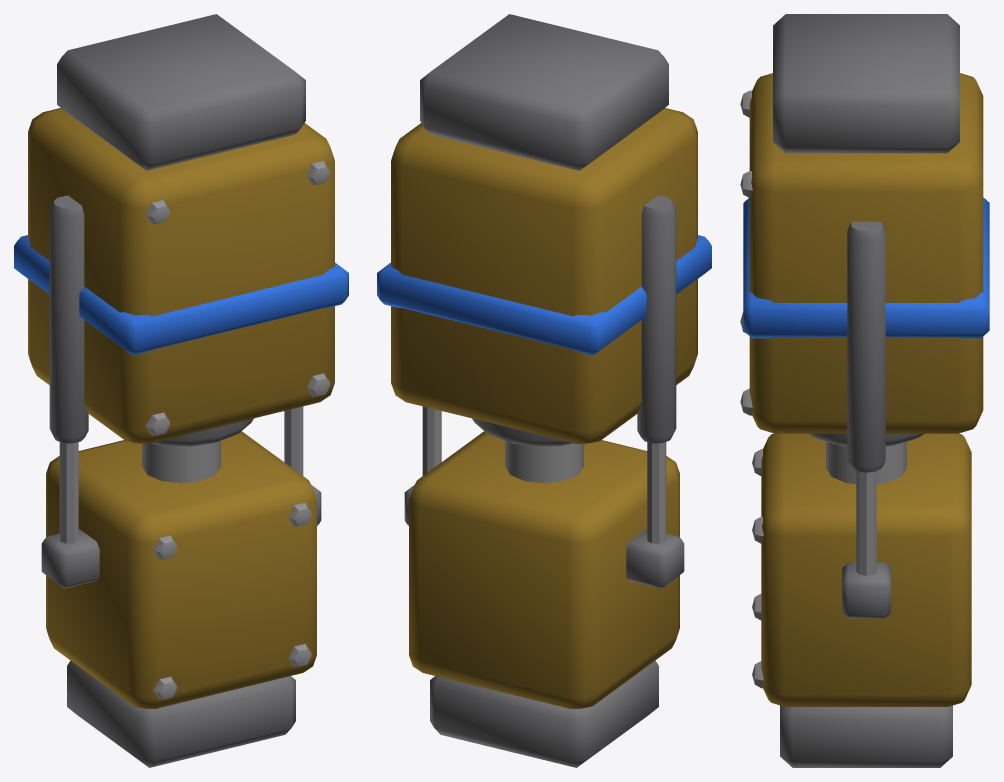
The model's file is Kit_Limb_Robotic_L.glb.
3 renders of one model, left to right at view 1: azimuth 30°, elevation 25°; view 2: azimuth 150°, elevation 25°; view 3: azimuth 270°, elevation 25°, orthographic. The views are drawn at different scales.
Parts seen in each view (by area): view 1: Kit_Limb_Robotic_L; view 2: Kit_Limb_Robotic_L; view 3: Kit_Limb_Robotic_L.
Part boxes in pixels (x1,y1,x2,y2): Kit_Limb_Robotic_L: (14, 14, 348, 767); Kit_Limb_Robotic_L: (377, 14, 711, 767); Kit_Limb_Robotic_L: (740, 14, 989, 767).
Bounding box in the file's own units: 0.1478 × 0.3579 × 0.1185.
